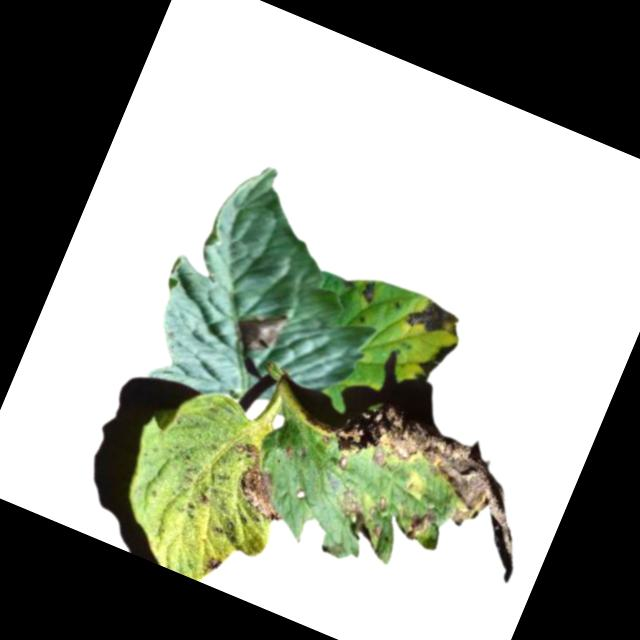Early_blight: (283, 379, 555, 584), (222, 440, 300, 524), (231, 302, 287, 359), (404, 293, 464, 344), (415, 329, 459, 383), (203, 552, 226, 576), (359, 278, 380, 304)
